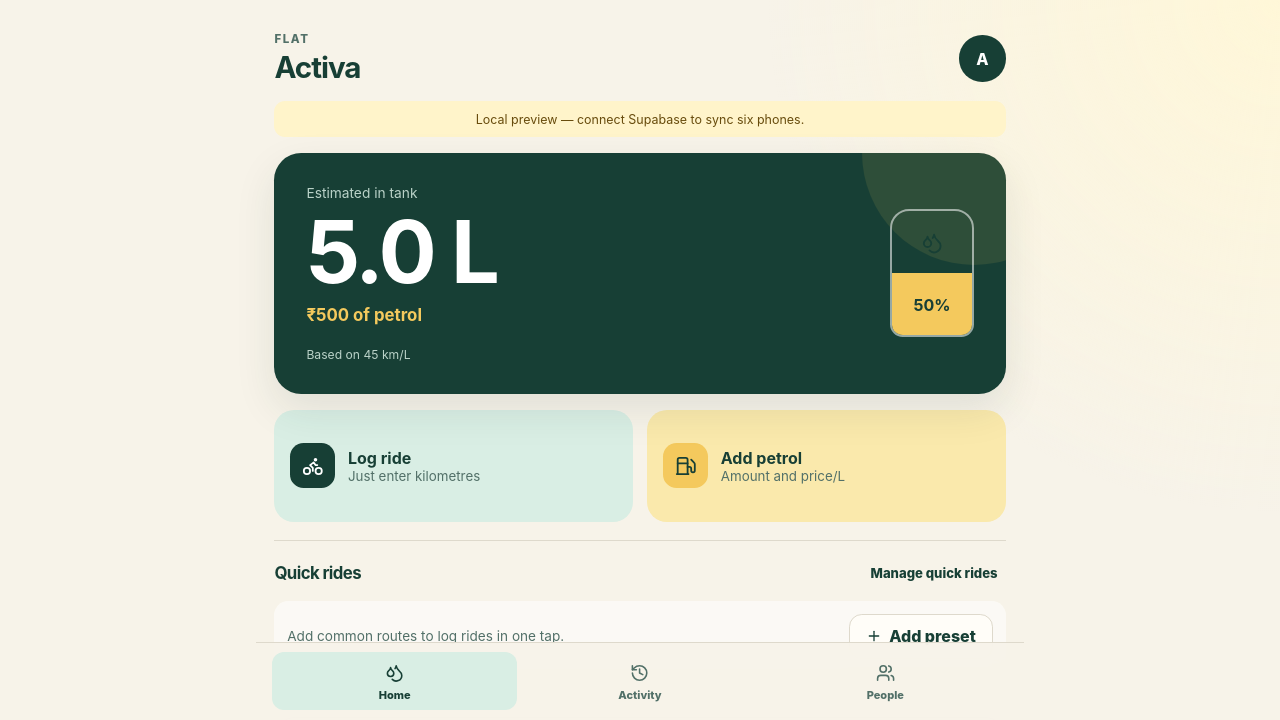
Test: quick rides › shows the empty state and opens the add-preset form
Expected: the text "Add common routes to log rides in one tap." is shown, x1=287 y1=628 x2=564 y2=644
Click the button "Add preset" at (921, 636), box x1=849 y1=614 x2=993 y2=659
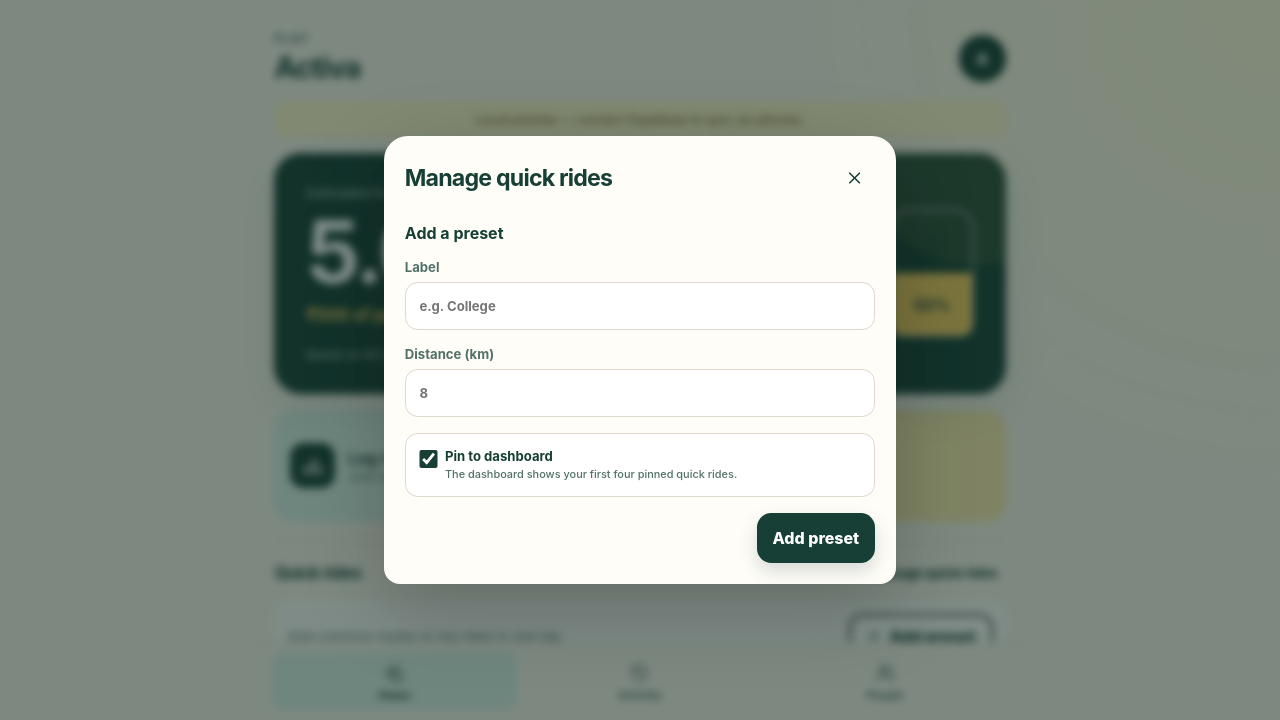
Expected: the field labelled "Label" is shown, x1=405 y1=282 x2=875 y2=330
Expected: the number field labelled "Distance (km)" is shown, x1=405 y1=369 x2=875 y2=417
